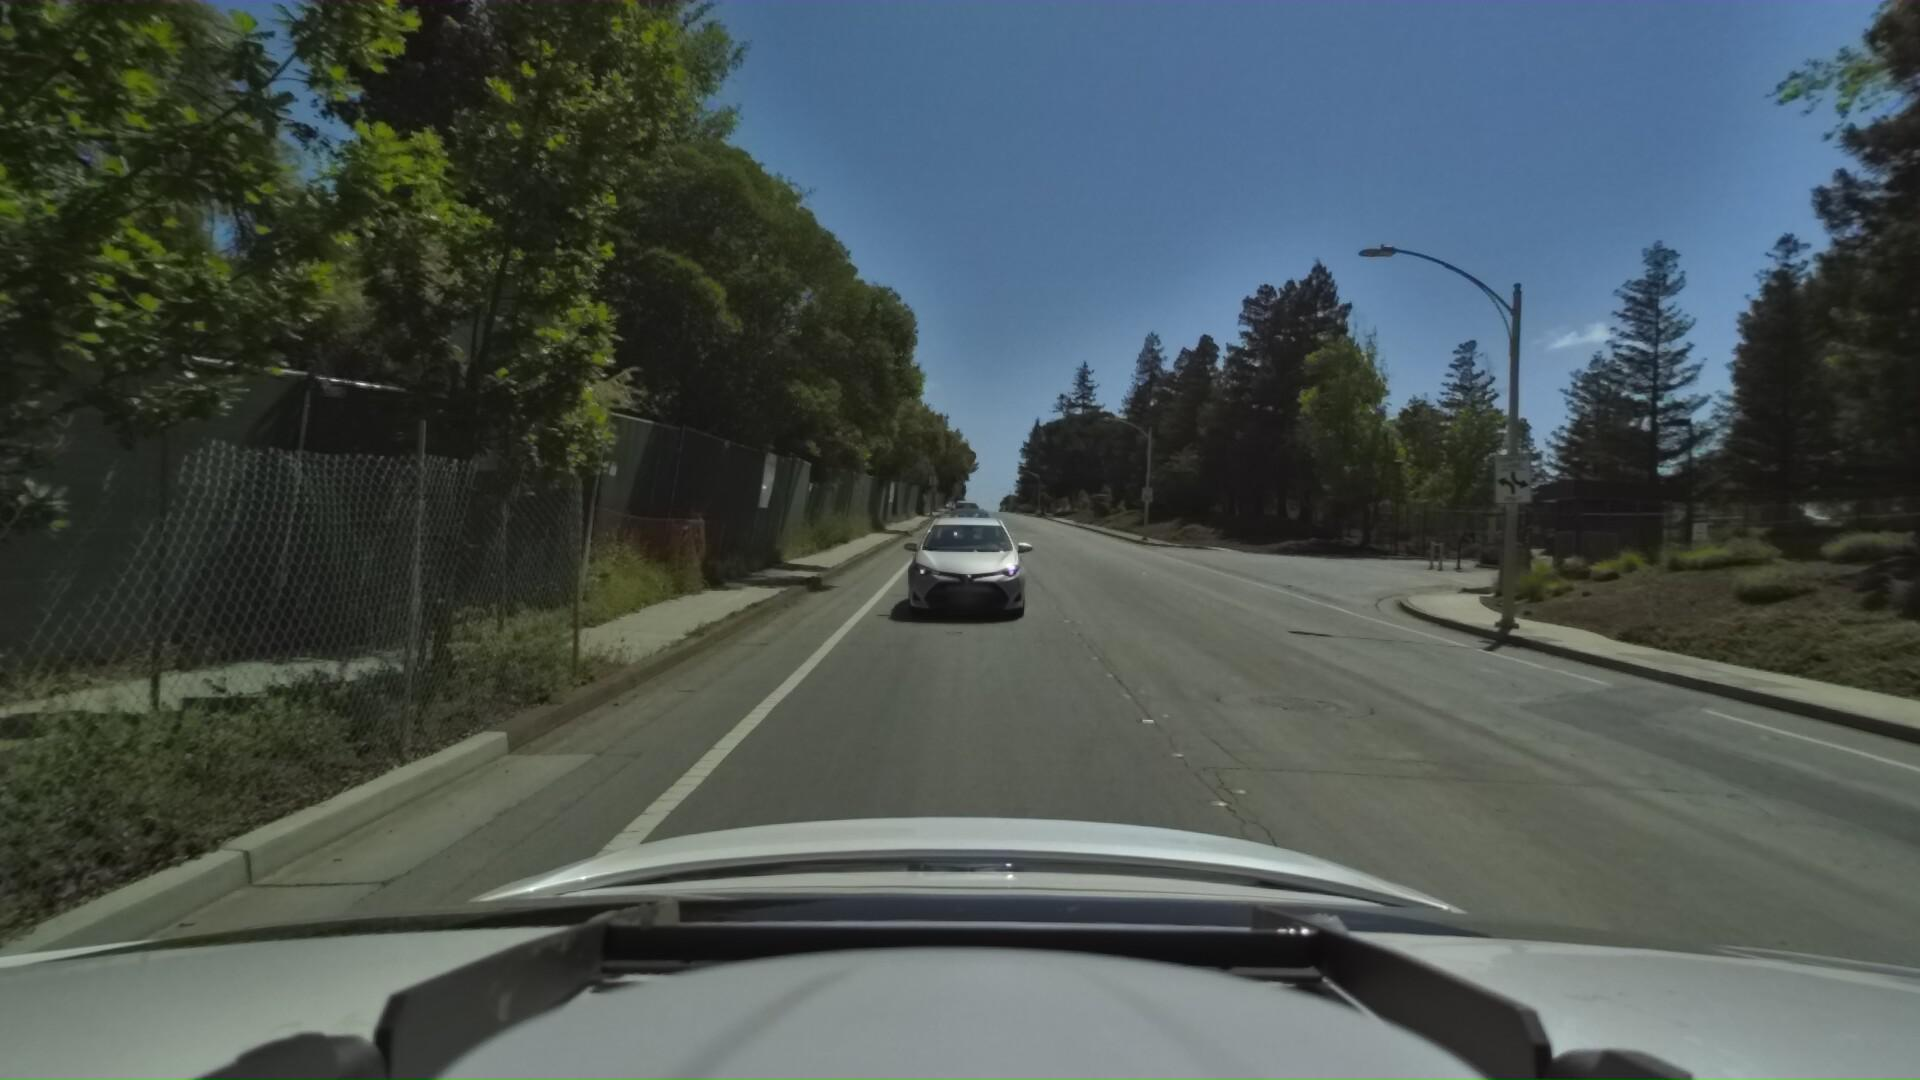car: (889, 495, 1029, 621), (942, 497, 998, 550), (945, 493, 981, 530)
